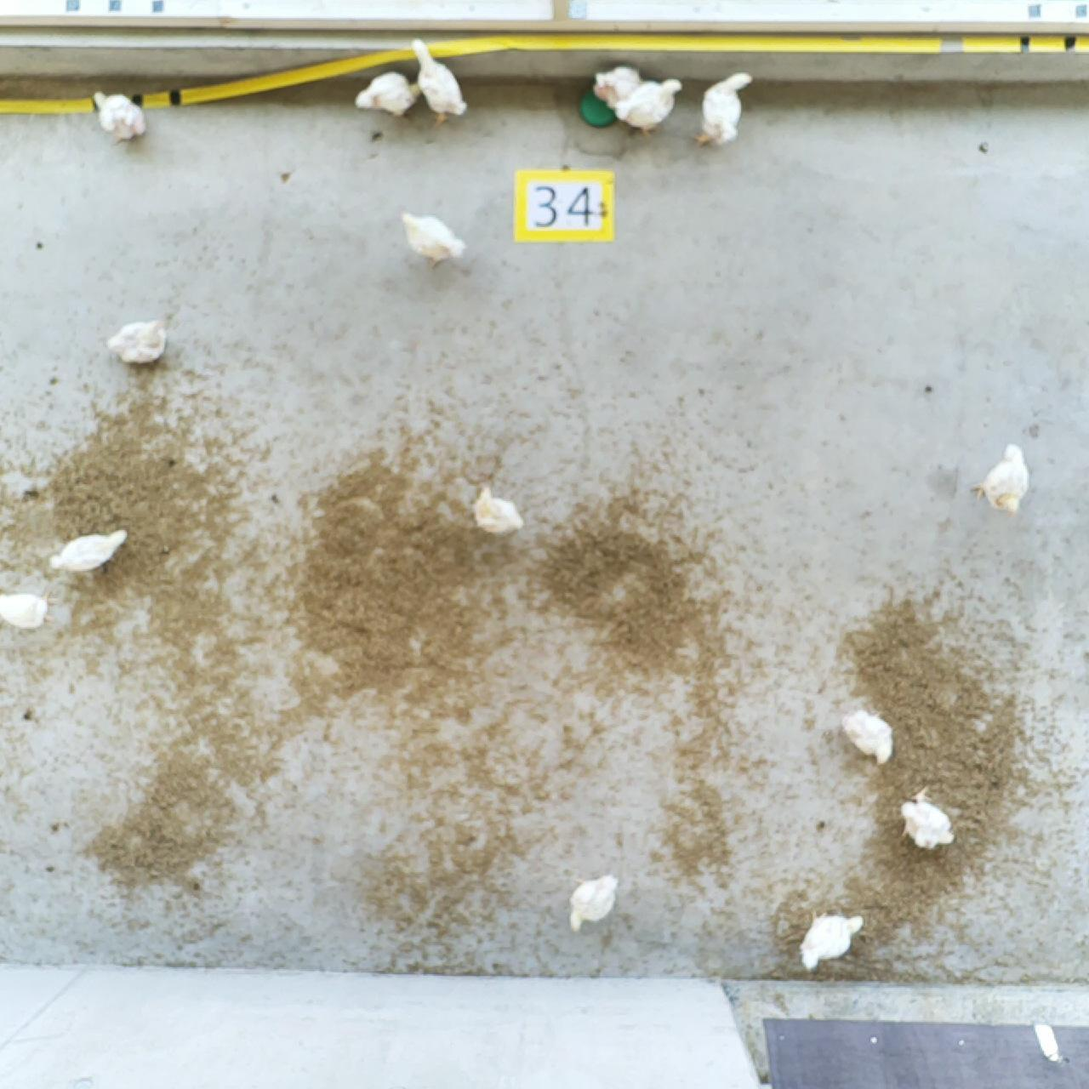chicken: (408, 37, 468, 120), (694, 71, 752, 145), (971, 444, 1030, 512), (398, 208, 465, 265), (617, 77, 682, 133), (49, 529, 129, 573), (470, 482, 529, 539), (798, 914, 862, 966), (92, 89, 147, 143), (356, 72, 422, 117), (568, 873, 620, 927), (841, 709, 894, 761), (902, 801, 955, 847), (112, 319, 167, 362), (592, 67, 641, 105), (1, 595, 48, 628)
